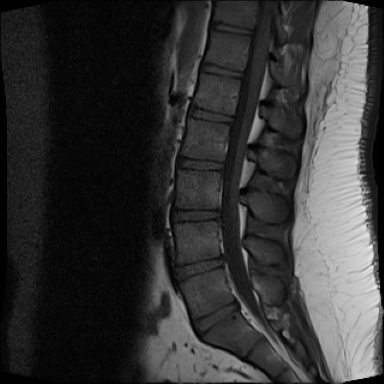Lumbar Disc Bulge (LDB): (186, 293, 242, 340)
Normal IVD: (172, 248, 227, 281), (165, 203, 224, 224), (198, 60, 249, 82), (186, 105, 238, 126), (172, 155, 227, 172), (209, 20, 257, 36)
Spinal Stenosis (SS): (227, 294, 242, 315)
